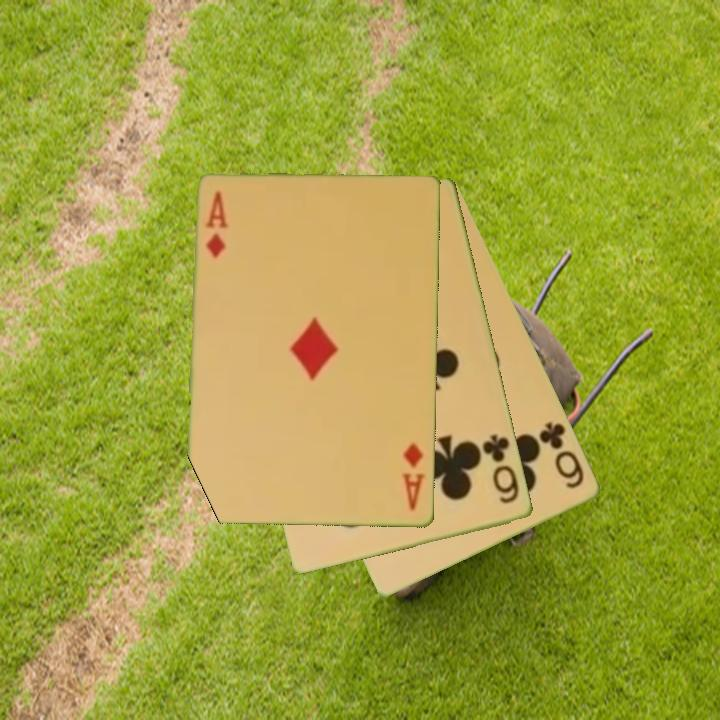6c: (536, 418, 588, 492), (479, 430, 523, 507)
Ad: (399, 440, 428, 514), (203, 188, 230, 261)
